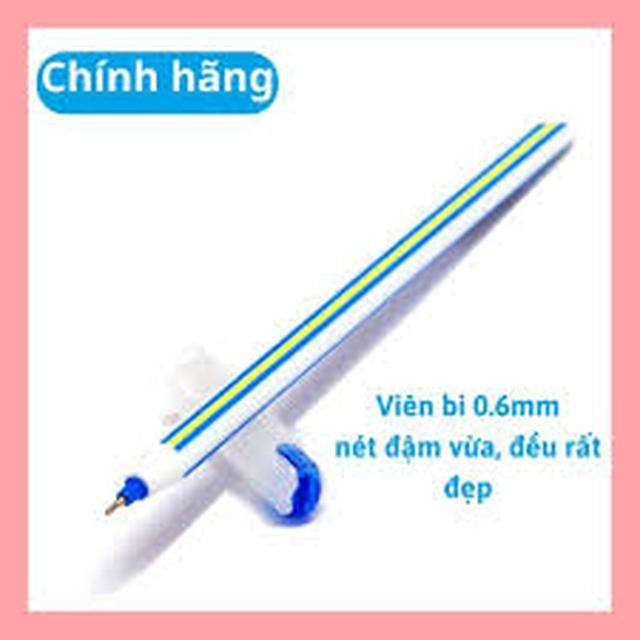pen: (112, 101, 594, 530)
